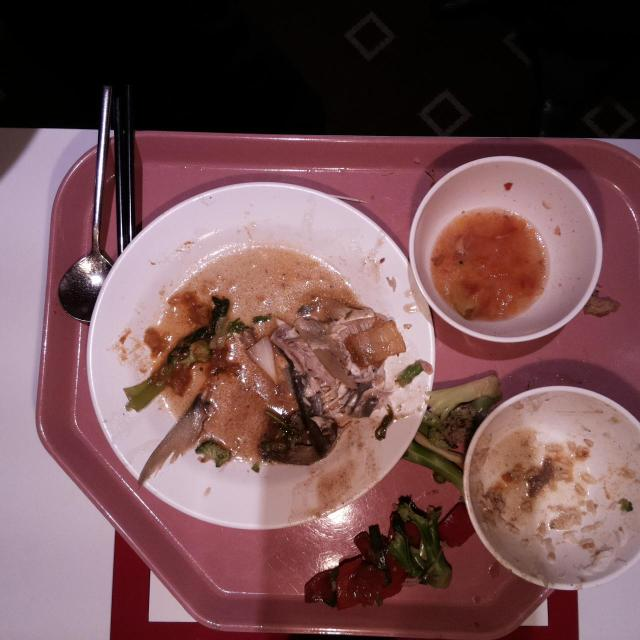Bone-fish: (283, 337, 381, 419), (136, 396, 210, 490)
Vegetable: (125, 293, 231, 411), (389, 496, 454, 589), (424, 373, 500, 421), (407, 441, 462, 489), (194, 436, 234, 466)
